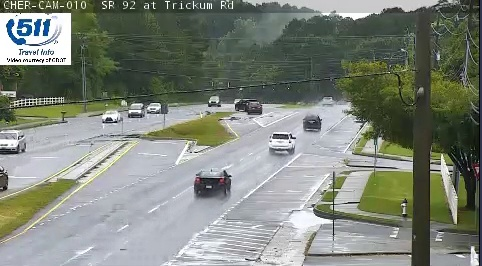car: (193, 169, 231, 193), (268, 132, 295, 152), (303, 115, 321, 130)
